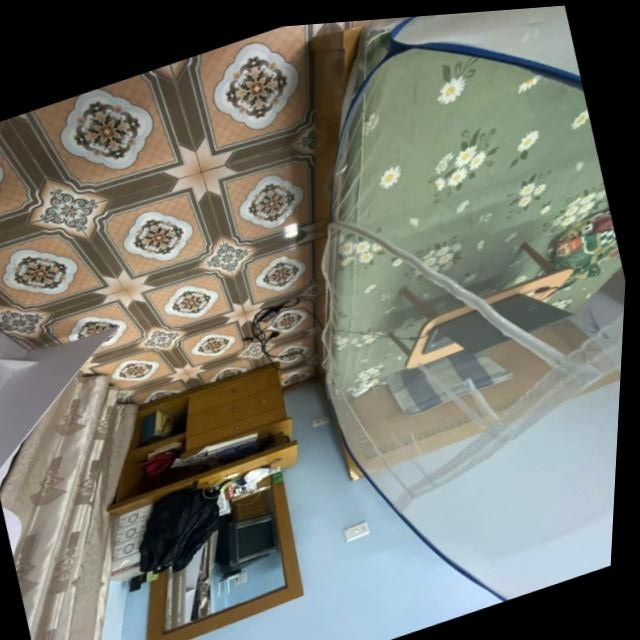outlet: (300, 407, 335, 433)
